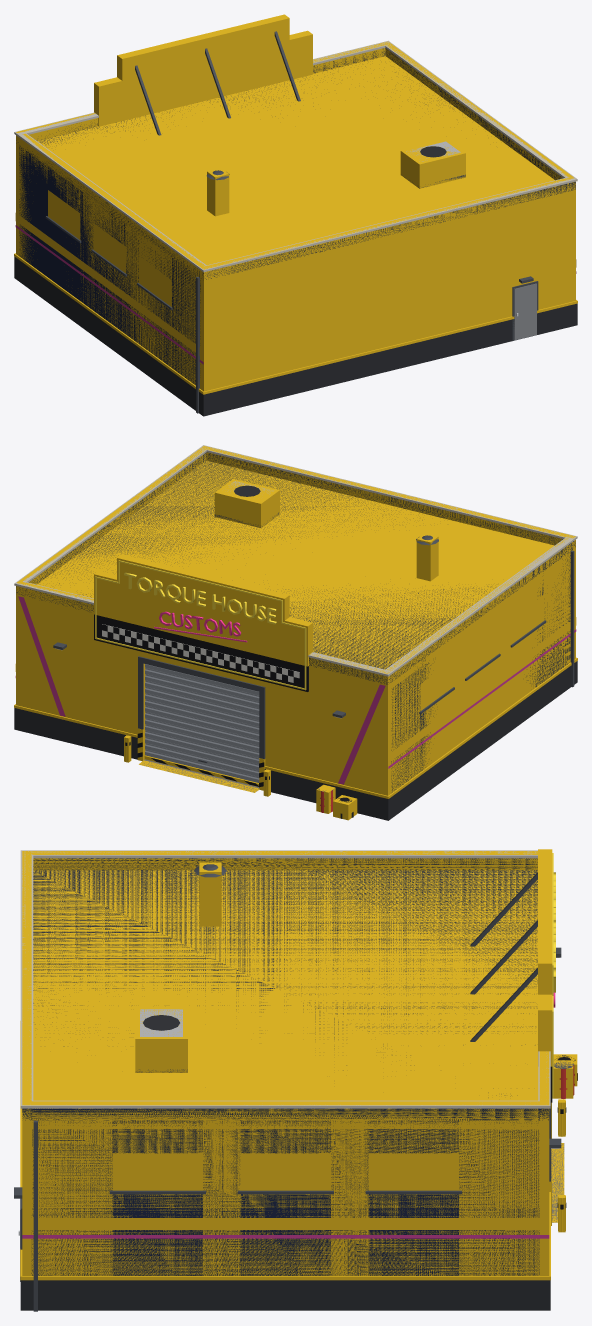
The model's file is shop_garage.glb.
3 views of the same model, one above another, from view 1: azimuth 30°, elevation 25°; view 2: azimuth 150°, elevation 25°; view 3: azimuth 270°, elevation 25° (orthographic). The views are drawn at different scales.
Visible parts, largest first — view 1: shop_garage__col, shop_garage__shell; view 2: shop_garage__col, shop_garage__shell, shop_garage__door; view 3: shop_garage__col, shop_garage__shell.
Boxes of the visible parts, x1,y1,x2,y2 form: shop_garage__col: [16, 14, 575, 391]; shop_garage__shell: [14, 31, 577, 416]; shop_garage__col: [16, 446, 575, 820]; shop_garage__shell: [14, 445, 577, 820]; shop_garage__door: [144, 664, 259, 786]; shop_garage__col: [22, 849, 577, 1275]; shop_garage__shell: [14, 850, 577, 1311].
Size of the model in its own units: 16.2 by 8.1 by 14.99.
3 materials, 2 textured.
